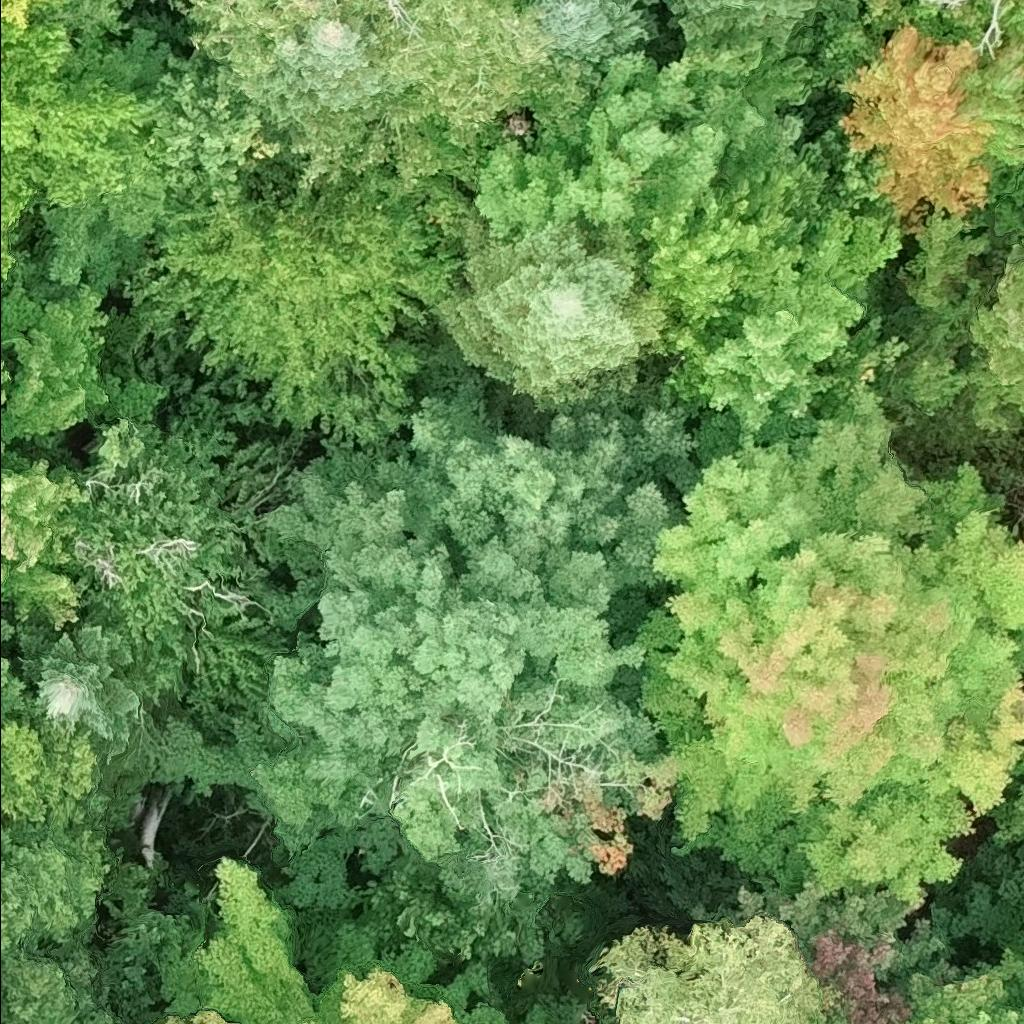crown: (180, 322, 702, 908), (635, 374, 1023, 902), (118, 165, 479, 446), (635, 124, 916, 434), (70, 395, 309, 741), (470, 34, 825, 244), (185, 0, 598, 148), (428, 222, 672, 430), (0, 15, 160, 286), (837, 21, 993, 215), (315, 913, 589, 1023), (157, 848, 319, 1023), (586, 912, 841, 1023), (13, 601, 157, 796), (225, 11, 389, 136), (0, 275, 112, 449), (136, 53, 283, 185), (869, 271, 989, 429), (0, 440, 96, 626), (735, 879, 918, 956), (964, 233, 1023, 437), (644, 0, 866, 51), (807, 920, 913, 1023), (0, 717, 99, 821), (901, 203, 994, 306), (534, 0, 666, 72), (958, 34, 1023, 166), (897, 970, 1023, 1023), (968, 152, 1023, 252), (982, 779, 1023, 849), (0, 0, 76, 29), (167, 1005, 235, 1023), (0, 356, 12, 413), (859, 0, 892, 16), (1011, 18, 1023, 42), (827, 1013, 849, 1023), (299, 1018, 320, 1023), (1021, 85, 1023, 102)
